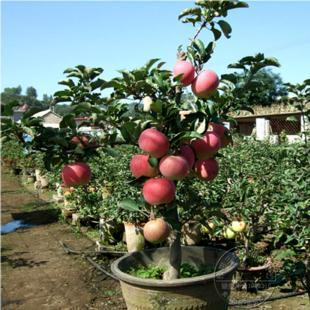apple: (138, 128, 171, 157), (143, 177, 176, 205), (191, 68, 219, 98), (130, 151, 160, 177), (159, 155, 189, 179), (192, 132, 220, 157), (63, 161, 91, 186), (172, 59, 195, 85), (194, 158, 218, 180)
